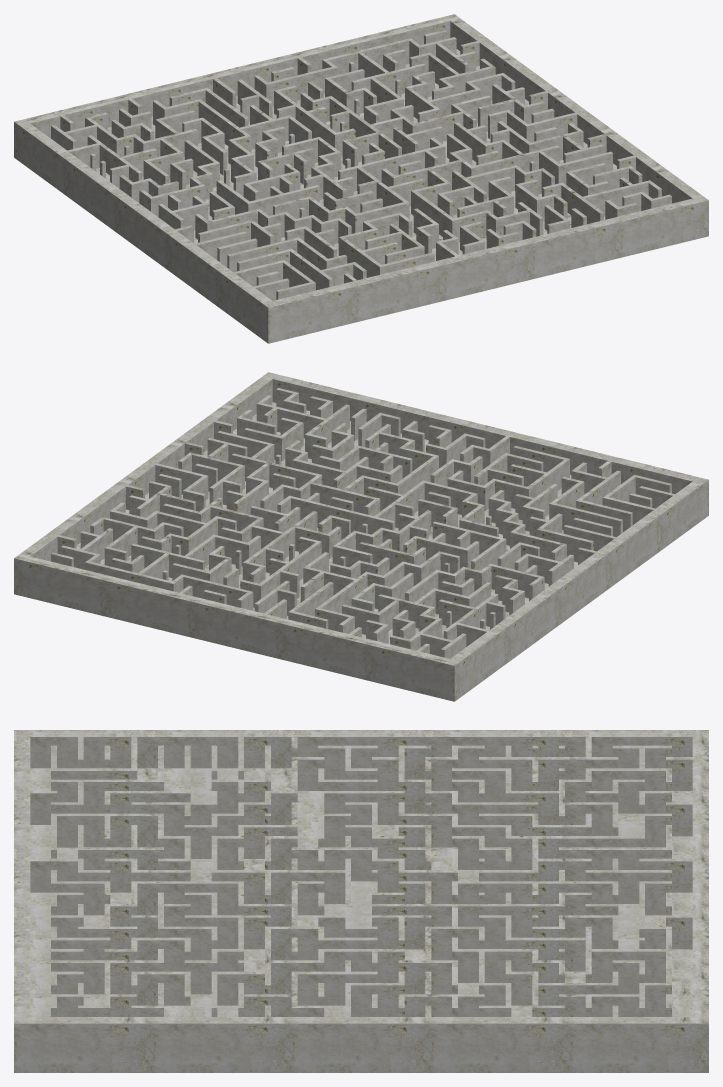
File: maze.glb
The picture shows the model from 3 angles, top to bottom: view 1: azimuth 30°, elevation 25°; view 2: azimuth 150°, elevation 25°; view 3: azimuth 270°, elevation 25°; orthographic projection. The views are drawn at different scales.
Parts seen in each view (by area): view 1: Plane; view 2: Plane; view 3: Plane.
Part boxes in pixels (x1,y1,x2,y2): Plane: (14, 14, 708, 343); Plane: (14, 372, 708, 701); Plane: (14, 730, 708, 1072).
Size of the model in its own units: 10.38 by 0.8096 by 10.38.
1 material, 1 textured.
